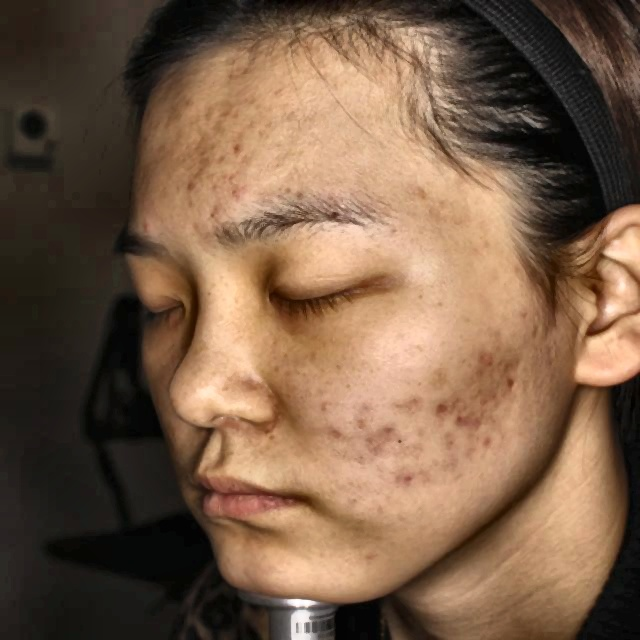pustule: (465, 380, 494, 411), (224, 133, 250, 167), (368, 417, 399, 445), (386, 470, 414, 498), (428, 392, 454, 422), (478, 337, 500, 367), (226, 176, 249, 200), (180, 170, 200, 197), (504, 372, 524, 398), (456, 412, 478, 433), (398, 395, 420, 414), (470, 434, 489, 452), (330, 425, 344, 444)
